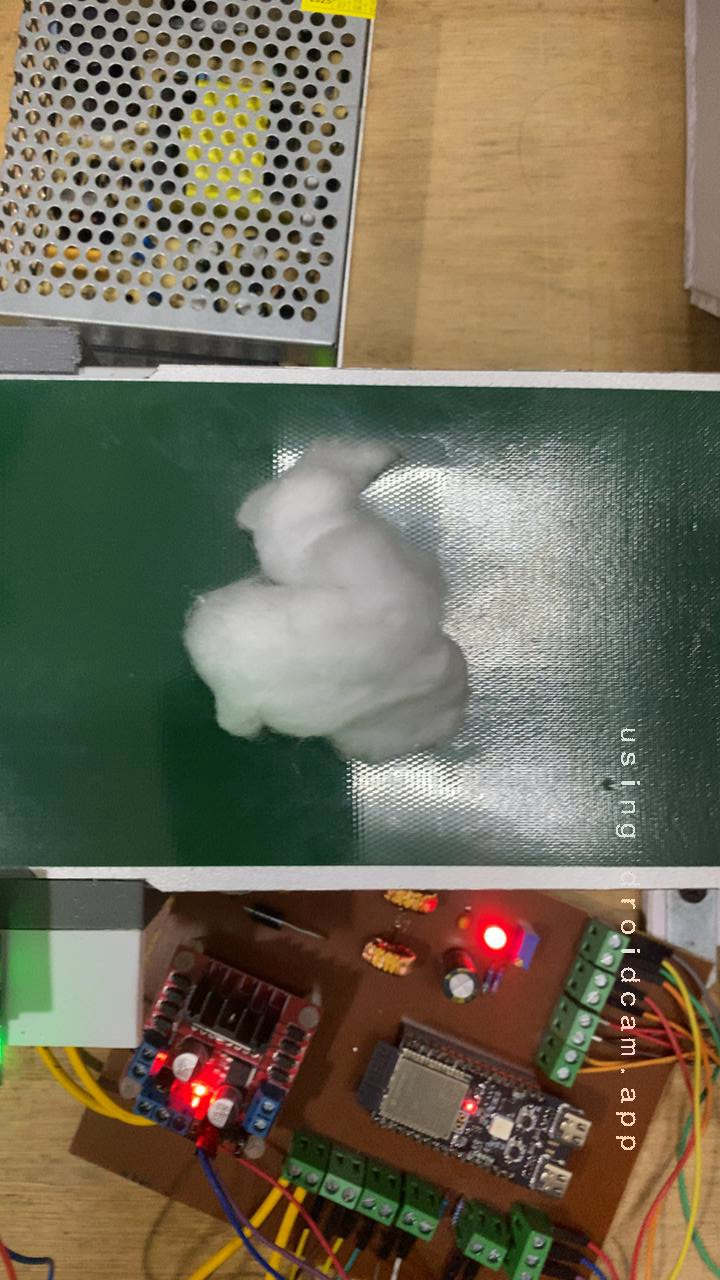cotton: (149, 412, 489, 781)
